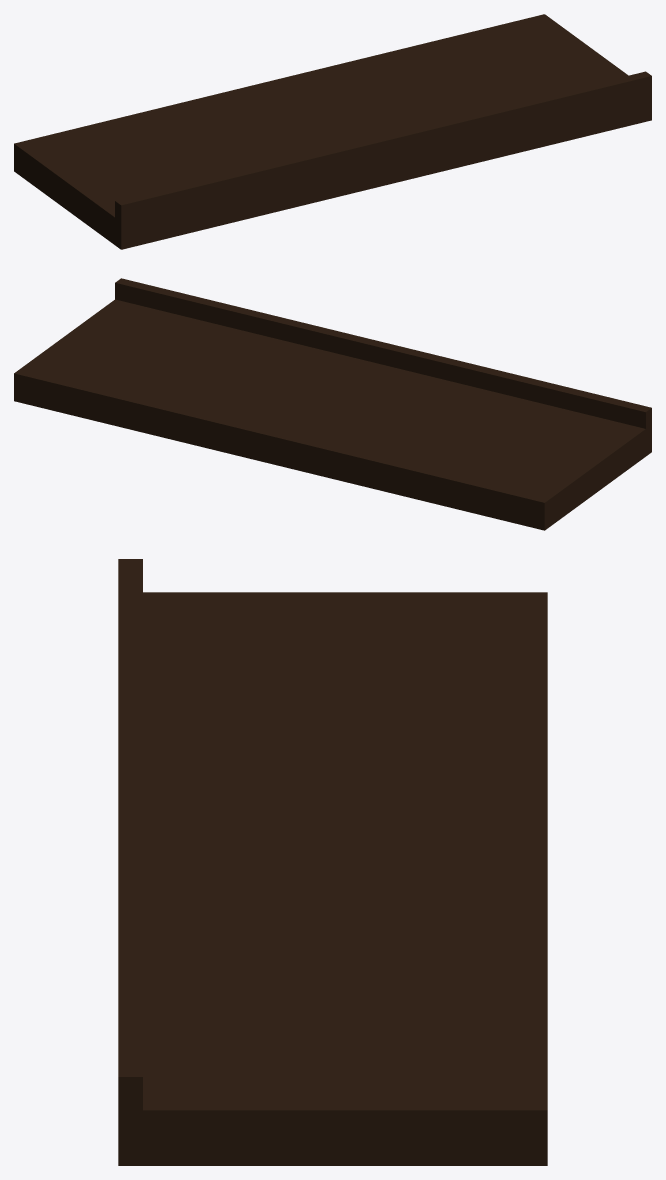
File: shelf-back.glb
The picture shows the model from 3 angles, top to bottom: view 1: azimuth 30°, elevation 25°; view 2: azimuth 150°, elevation 25°; view 3: azimuth 270°, elevation 25°; orthographic projection. The views are drawn at different scales.
Visible parts, largest first — view 1: shelfBack; view 2: shelfBack; view 3: shelfBack.
Boxes of the visible parts, left/top/right/bottom form: shelfBack: left=14, top=14, right=651, bottom=249; shelfBack: left=14, top=278, right=651, bottom=530; shelfBack: left=118, top=559, right=547, bottom=1165.
Bounding box in the file's own units: 1 × 0.08 × 0.35.
